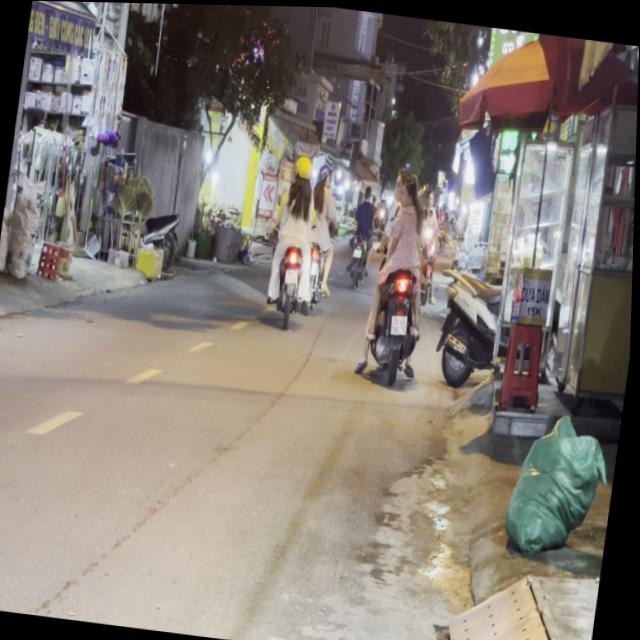helmet: (293, 150, 313, 180)
licenseplate: (356, 157, 444, 387), (262, 147, 324, 327)
motorcyclist: (397, 171, 421, 207)
nohelmet: (391, 311, 409, 332), (286, 265, 300, 281)
